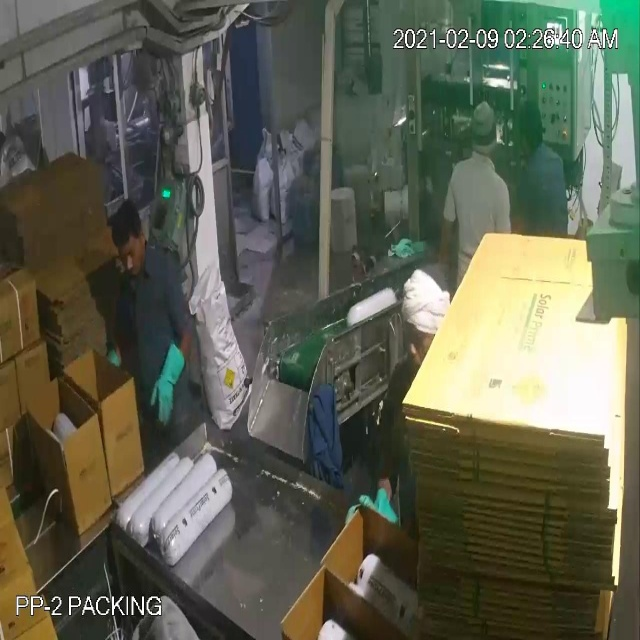Guantes: (150, 324, 191, 436)
Sin_guantes: (433, 209, 458, 290)
